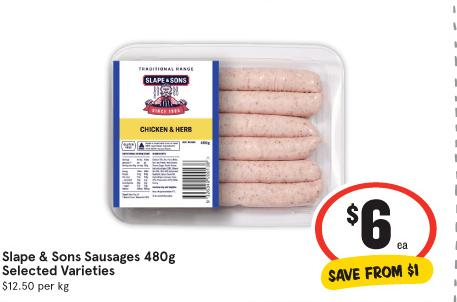description_block: (2, 249, 181, 279)
price_main: (331, 187, 418, 255)
product_image_block: (103, 32, 344, 228)
promo_text_block: (317, 260, 435, 286)
unit_price_block: (0, 279, 79, 297)
